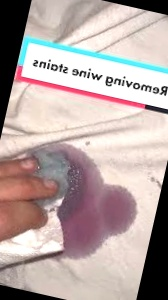wine: (63, 167, 137, 257), (64, 226, 104, 278), (66, 142, 109, 172)
